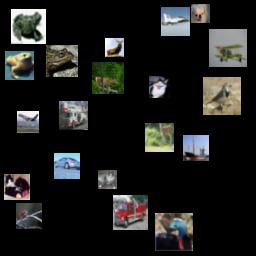airplane: (209, 29, 247, 67), (161, 7, 190, 36), (17, 111, 39, 133)
automobile: (54, 153, 80, 179)
bird: (203, 77, 241, 115), (155, 213, 193, 251), (16, 203, 42, 229)
cat: (4, 174, 30, 200), (149, 76, 171, 98), (98, 170, 117, 189)
deer: (92, 62, 124, 94), (145, 123, 174, 152), (105, 38, 124, 57)
dog: (191, 4, 210, 23)
frog: (11, 9, 46, 44), (46, 45, 78, 77), (5, 51, 34, 80)
ship: (183, 135, 209, 161)
truck: (113, 195, 148, 230), (59, 101, 88, 130)
